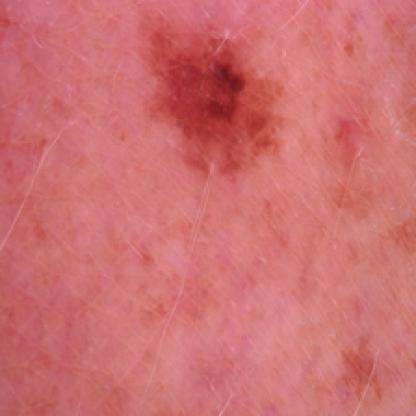benign: (135, 37, 275, 165)
